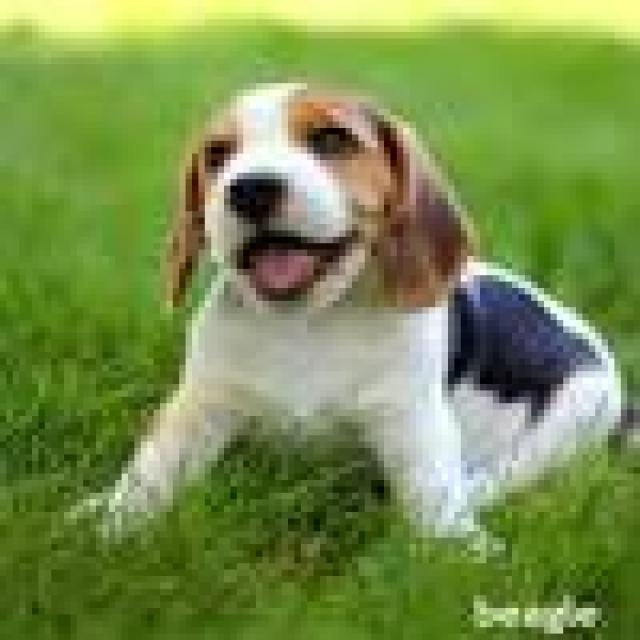Dog: (60, 78, 640, 568)
